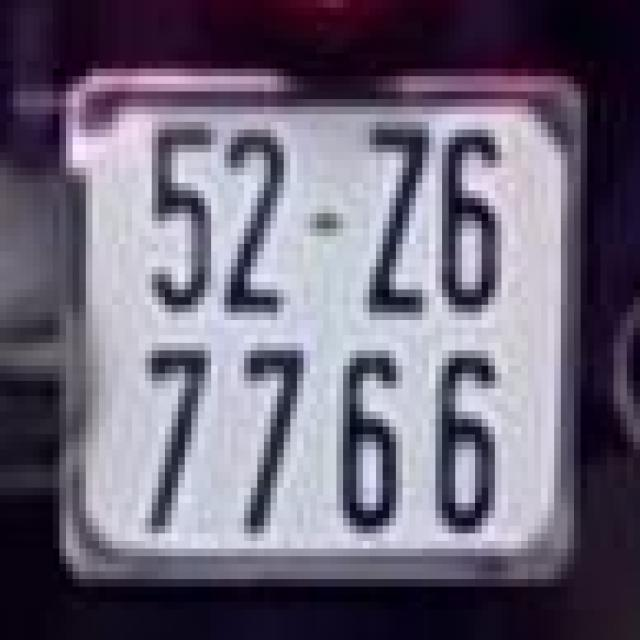2: (221, 111, 294, 316)
5: (135, 118, 221, 316)
6: (330, 343, 416, 548), (429, 343, 508, 541), (446, 114, 512, 336)
7: (132, 339, 218, 545), (231, 339, 310, 545)
Z: (353, 107, 439, 335)
